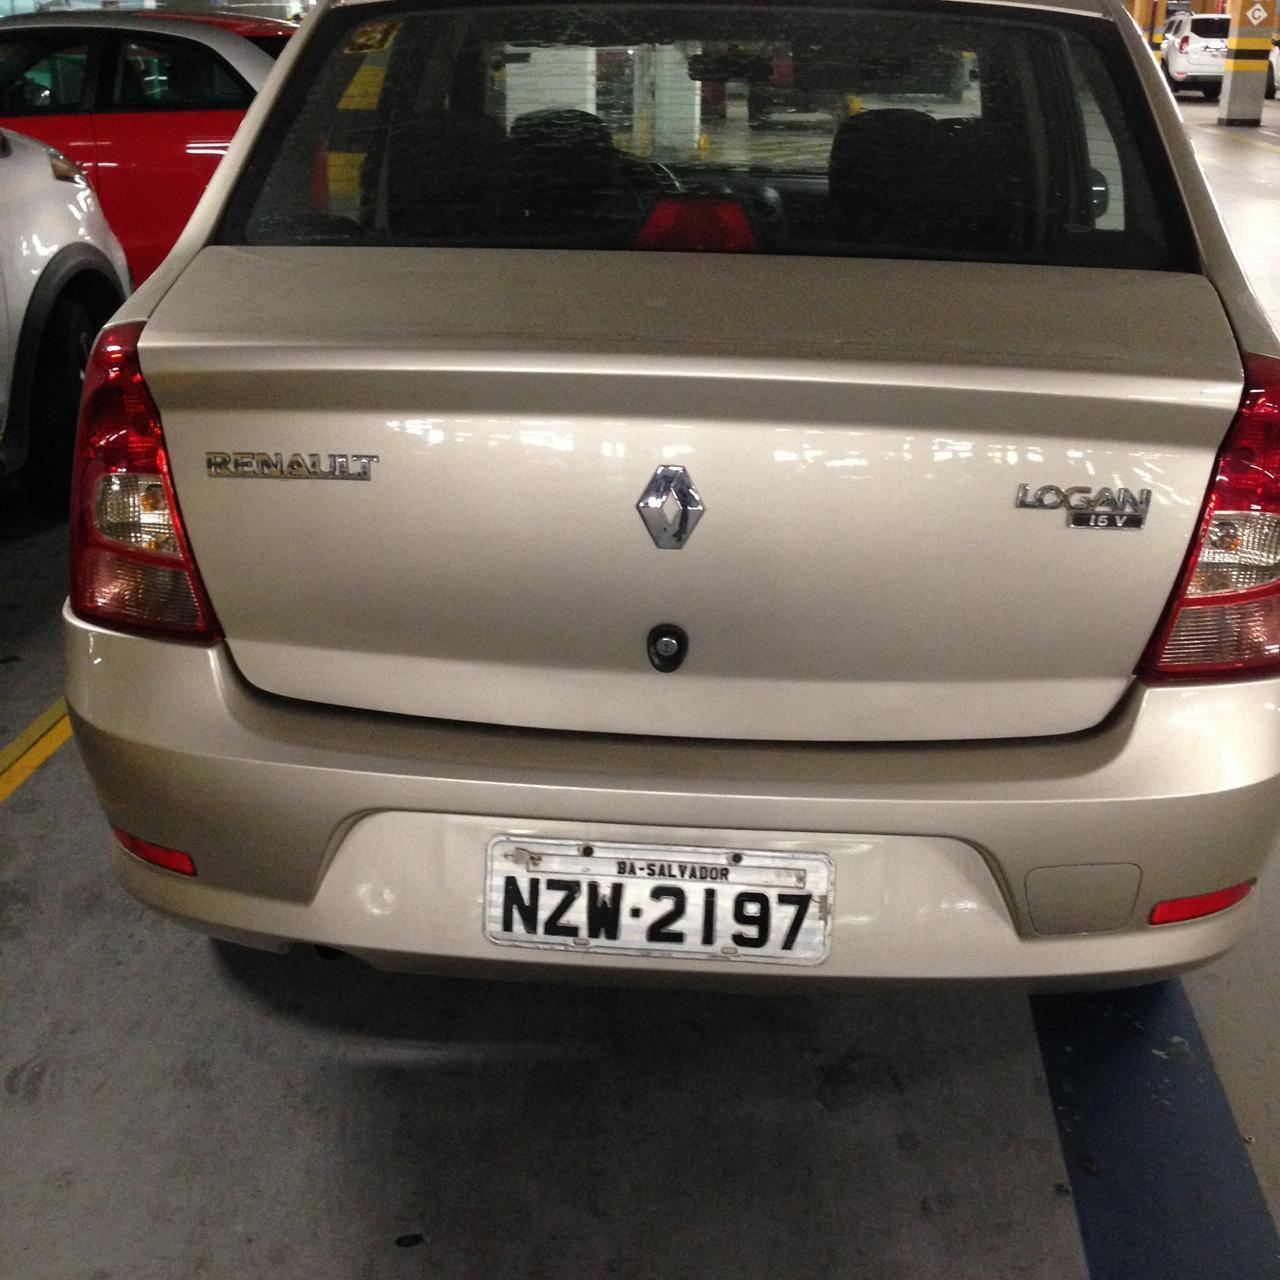placa de veiculo: (464, 806, 848, 991)
